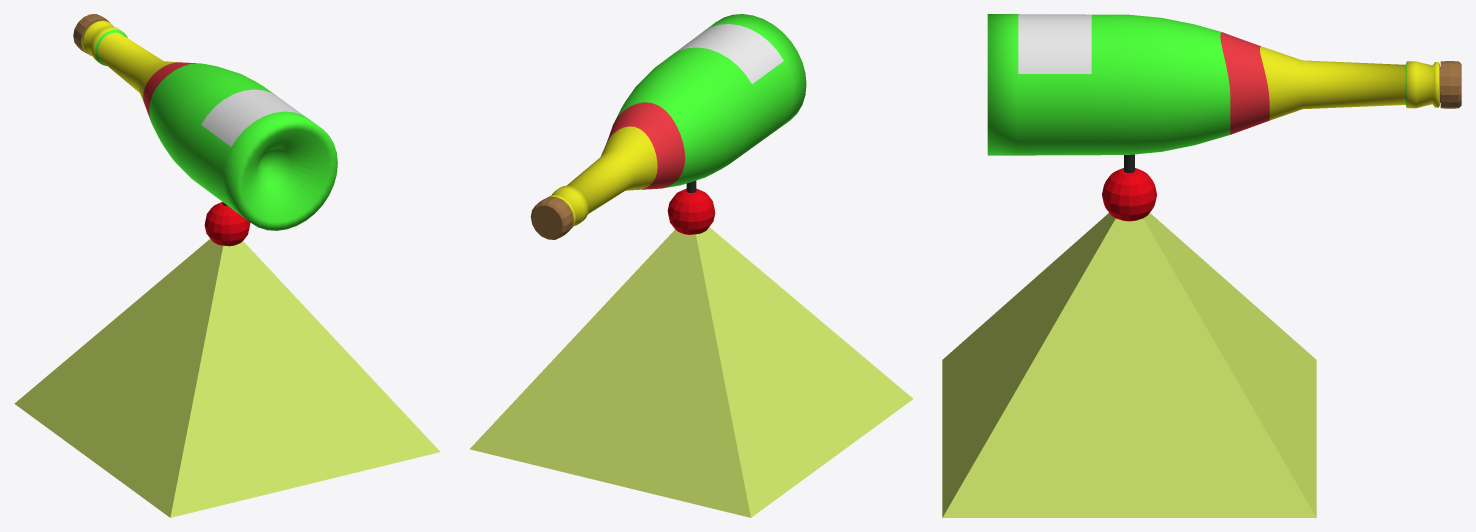
File: tow_base2.fbx
The picture shows the model from 3 angles, left to right: view 1: azimuth 30°, elevation 25°; view 2: azimuth 150°, elevation 25°; view 3: azimuth 270°, elevation 25°; orthographic projection. The views are drawn at different scales.
Parts seen in each view (by area): view 1: Pyramid, Bottle, Eye; view 2: Pyramid, Bottle, Eye, Cork; view 3: Pyramid, Bottle, Eye, Cork.
Part boxes in pixels (bbox=[...]): Pyramid: bbox=[14, 238, 440, 517]; Bottle: bbox=[82, 20, 337, 230]; Eye: bbox=[204, 202, 250, 246]; Pyramid: bbox=[470, 227, 912, 517]; Bottle: bbox=[548, 14, 806, 229]; Eye: bbox=[667, 188, 715, 234]; Cork: bbox=[530, 196, 573, 239]; Pyramid: bbox=[942, 213, 1316, 517]; Bottle: bbox=[987, 14, 1439, 155]; Eye: bbox=[1102, 168, 1156, 221]; Cork: bbox=[1440, 61, 1461, 108].
Size of the model in its own units: 1000 by 1234 by 1387.
